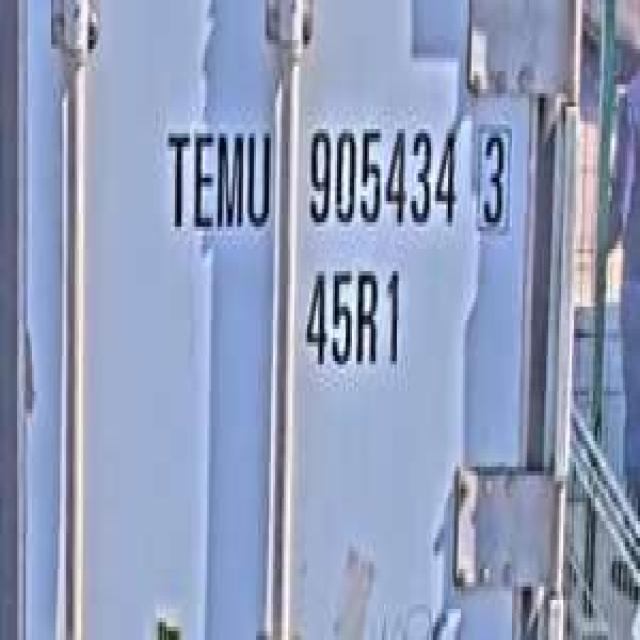dv: (472, 111, 514, 236)
owner: (158, 111, 273, 240)
serial: (301, 107, 463, 236)
size: (298, 253, 408, 378)
